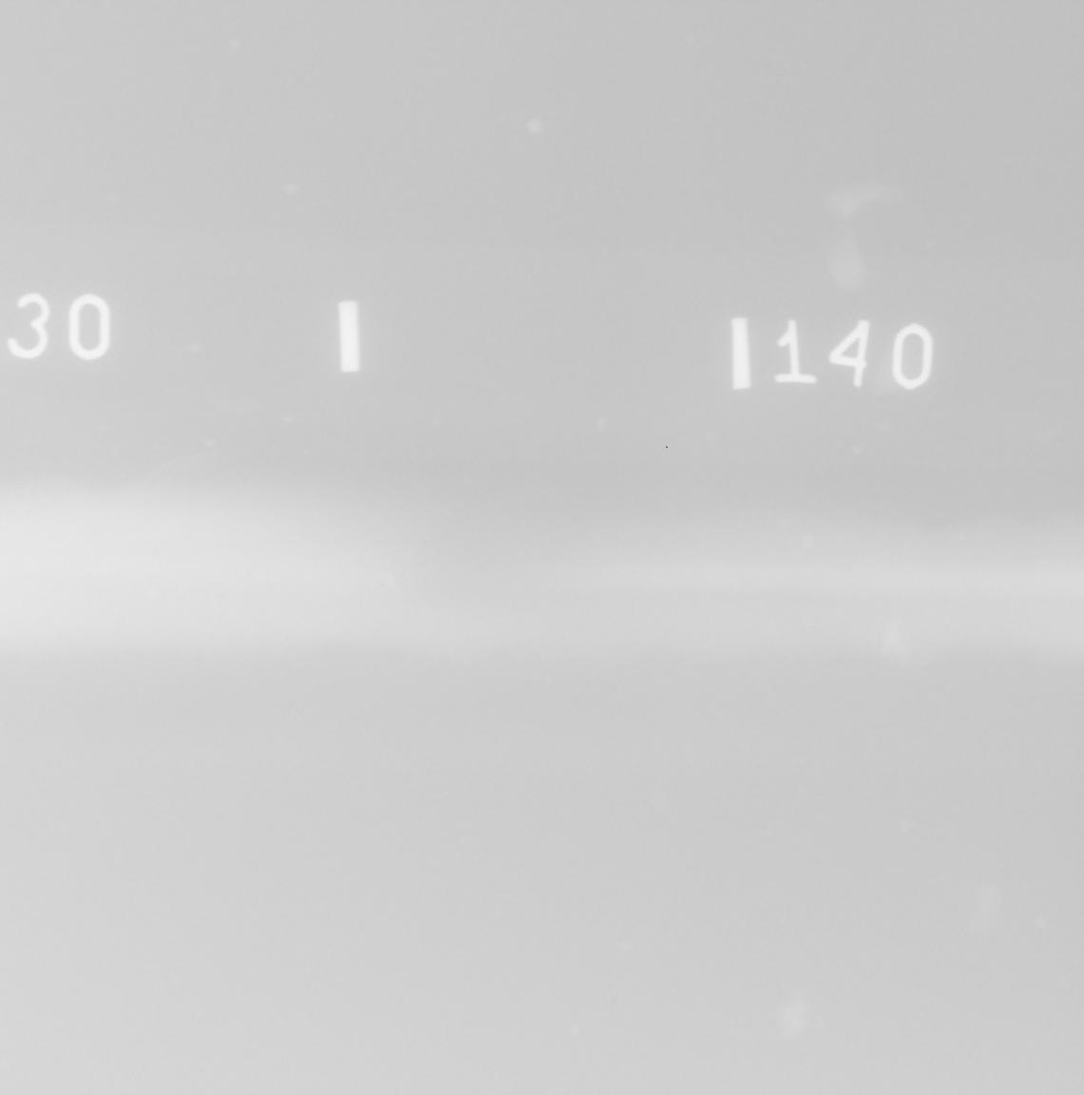Inclusion: (932, 516, 956, 525)
Pore/Porosity: (423, 540, 428, 545), (380, 584, 384, 588)
